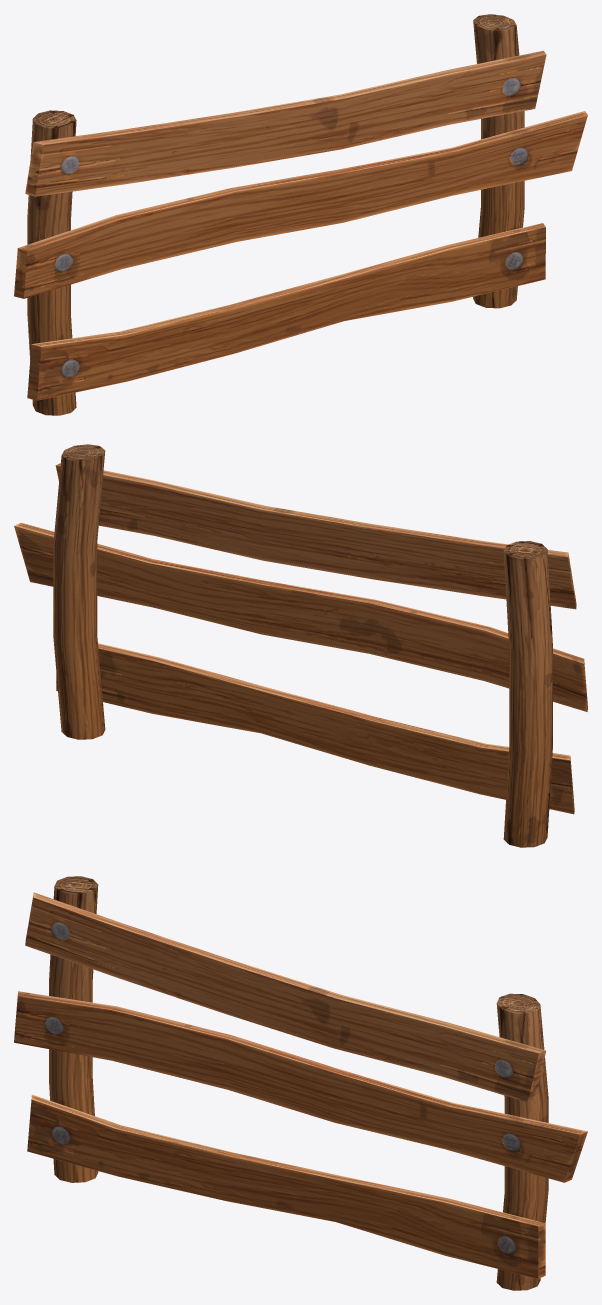
The model's file is Fences03_1.FBX.
The picture shows the model from 3 angles, top to bottom: view 1: azimuth 30°, elevation 25°; view 2: azimuth 150°, elevation 25°; view 3: azimuth 330°, elevation 25°; orthographic projection.
Visible parts, largest first — view 1: Fences03_1; view 2: Fences03_1; view 3: Fences03_1.
Boxes of the visible parts, x1,y1,x2,y2 form: Fences03_1: [14, 14, 587, 415]; Fences03_1: [14, 444, 587, 847]; Fences03_1: [14, 876, 587, 1290].
Size of what is drawn, in the model's own units: 1.3 by 0.625 by 0.1028.
